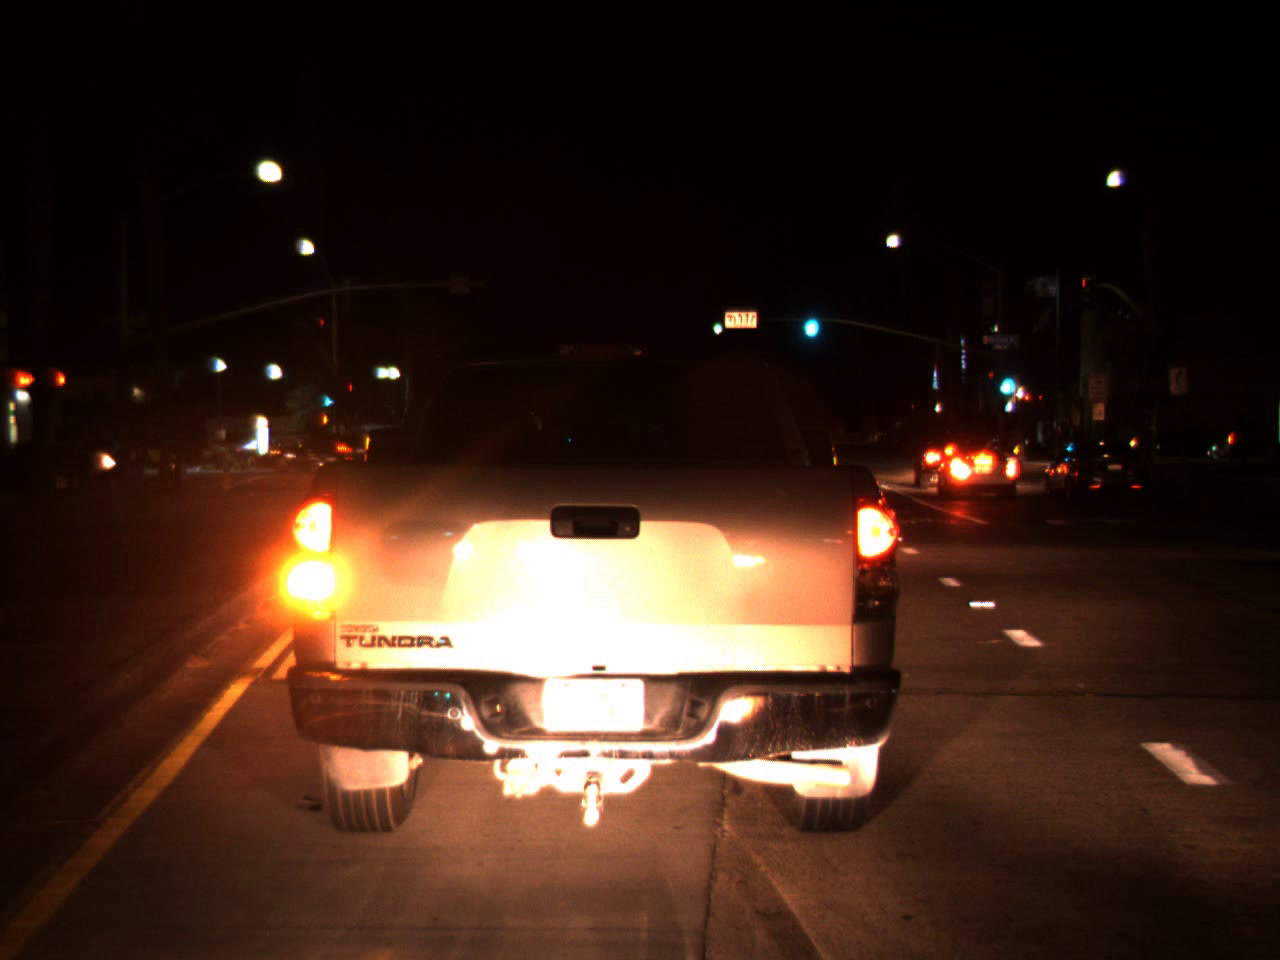go: (798, 296, 821, 344), (994, 363, 1019, 399), (708, 308, 726, 338), (321, 386, 334, 410)
